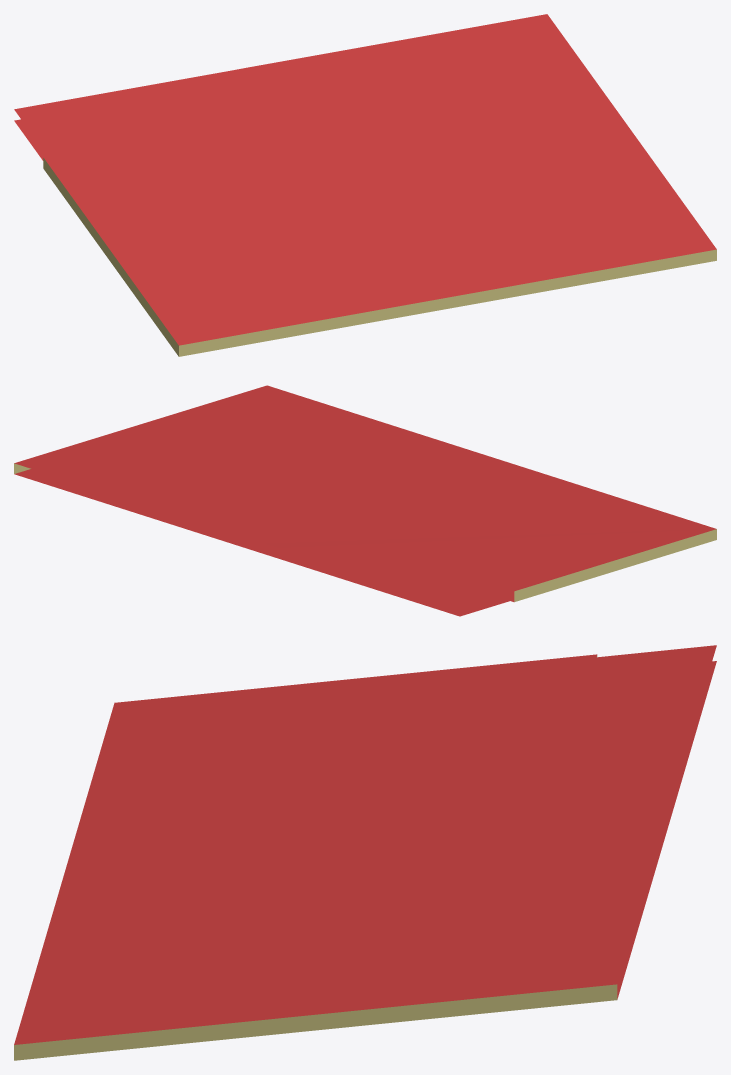
3 views of the same model, one above another, from view 1: azimuth 30°, elevation 25°; view 2: azimuth 150°, elevation 25°; view 3: azimuth 270°, elevation 25° (orthographic). The views are drawn at different scales.
Bounding box in the file's own units: 5.08 × 4.04 × 0.685.
